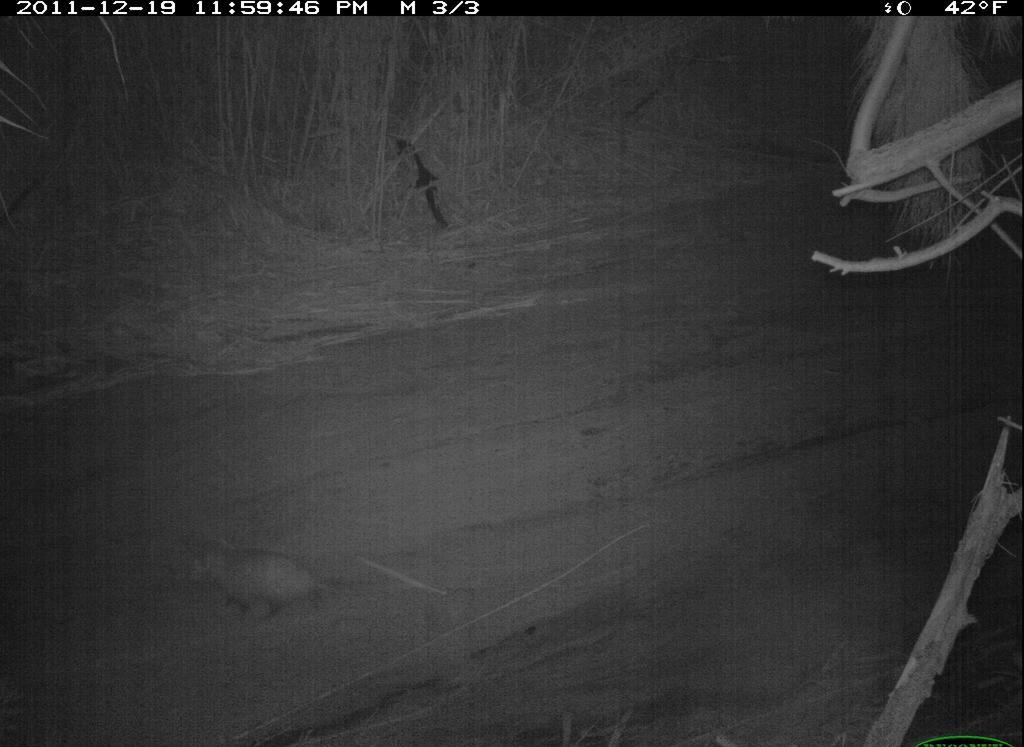opossum: (169, 521, 382, 641)
